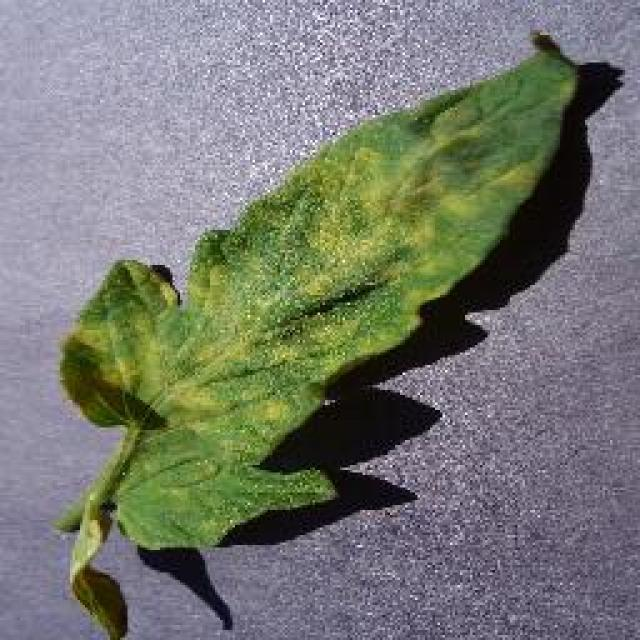Tomato___Leaf_Mold: (58, 35, 575, 638)
